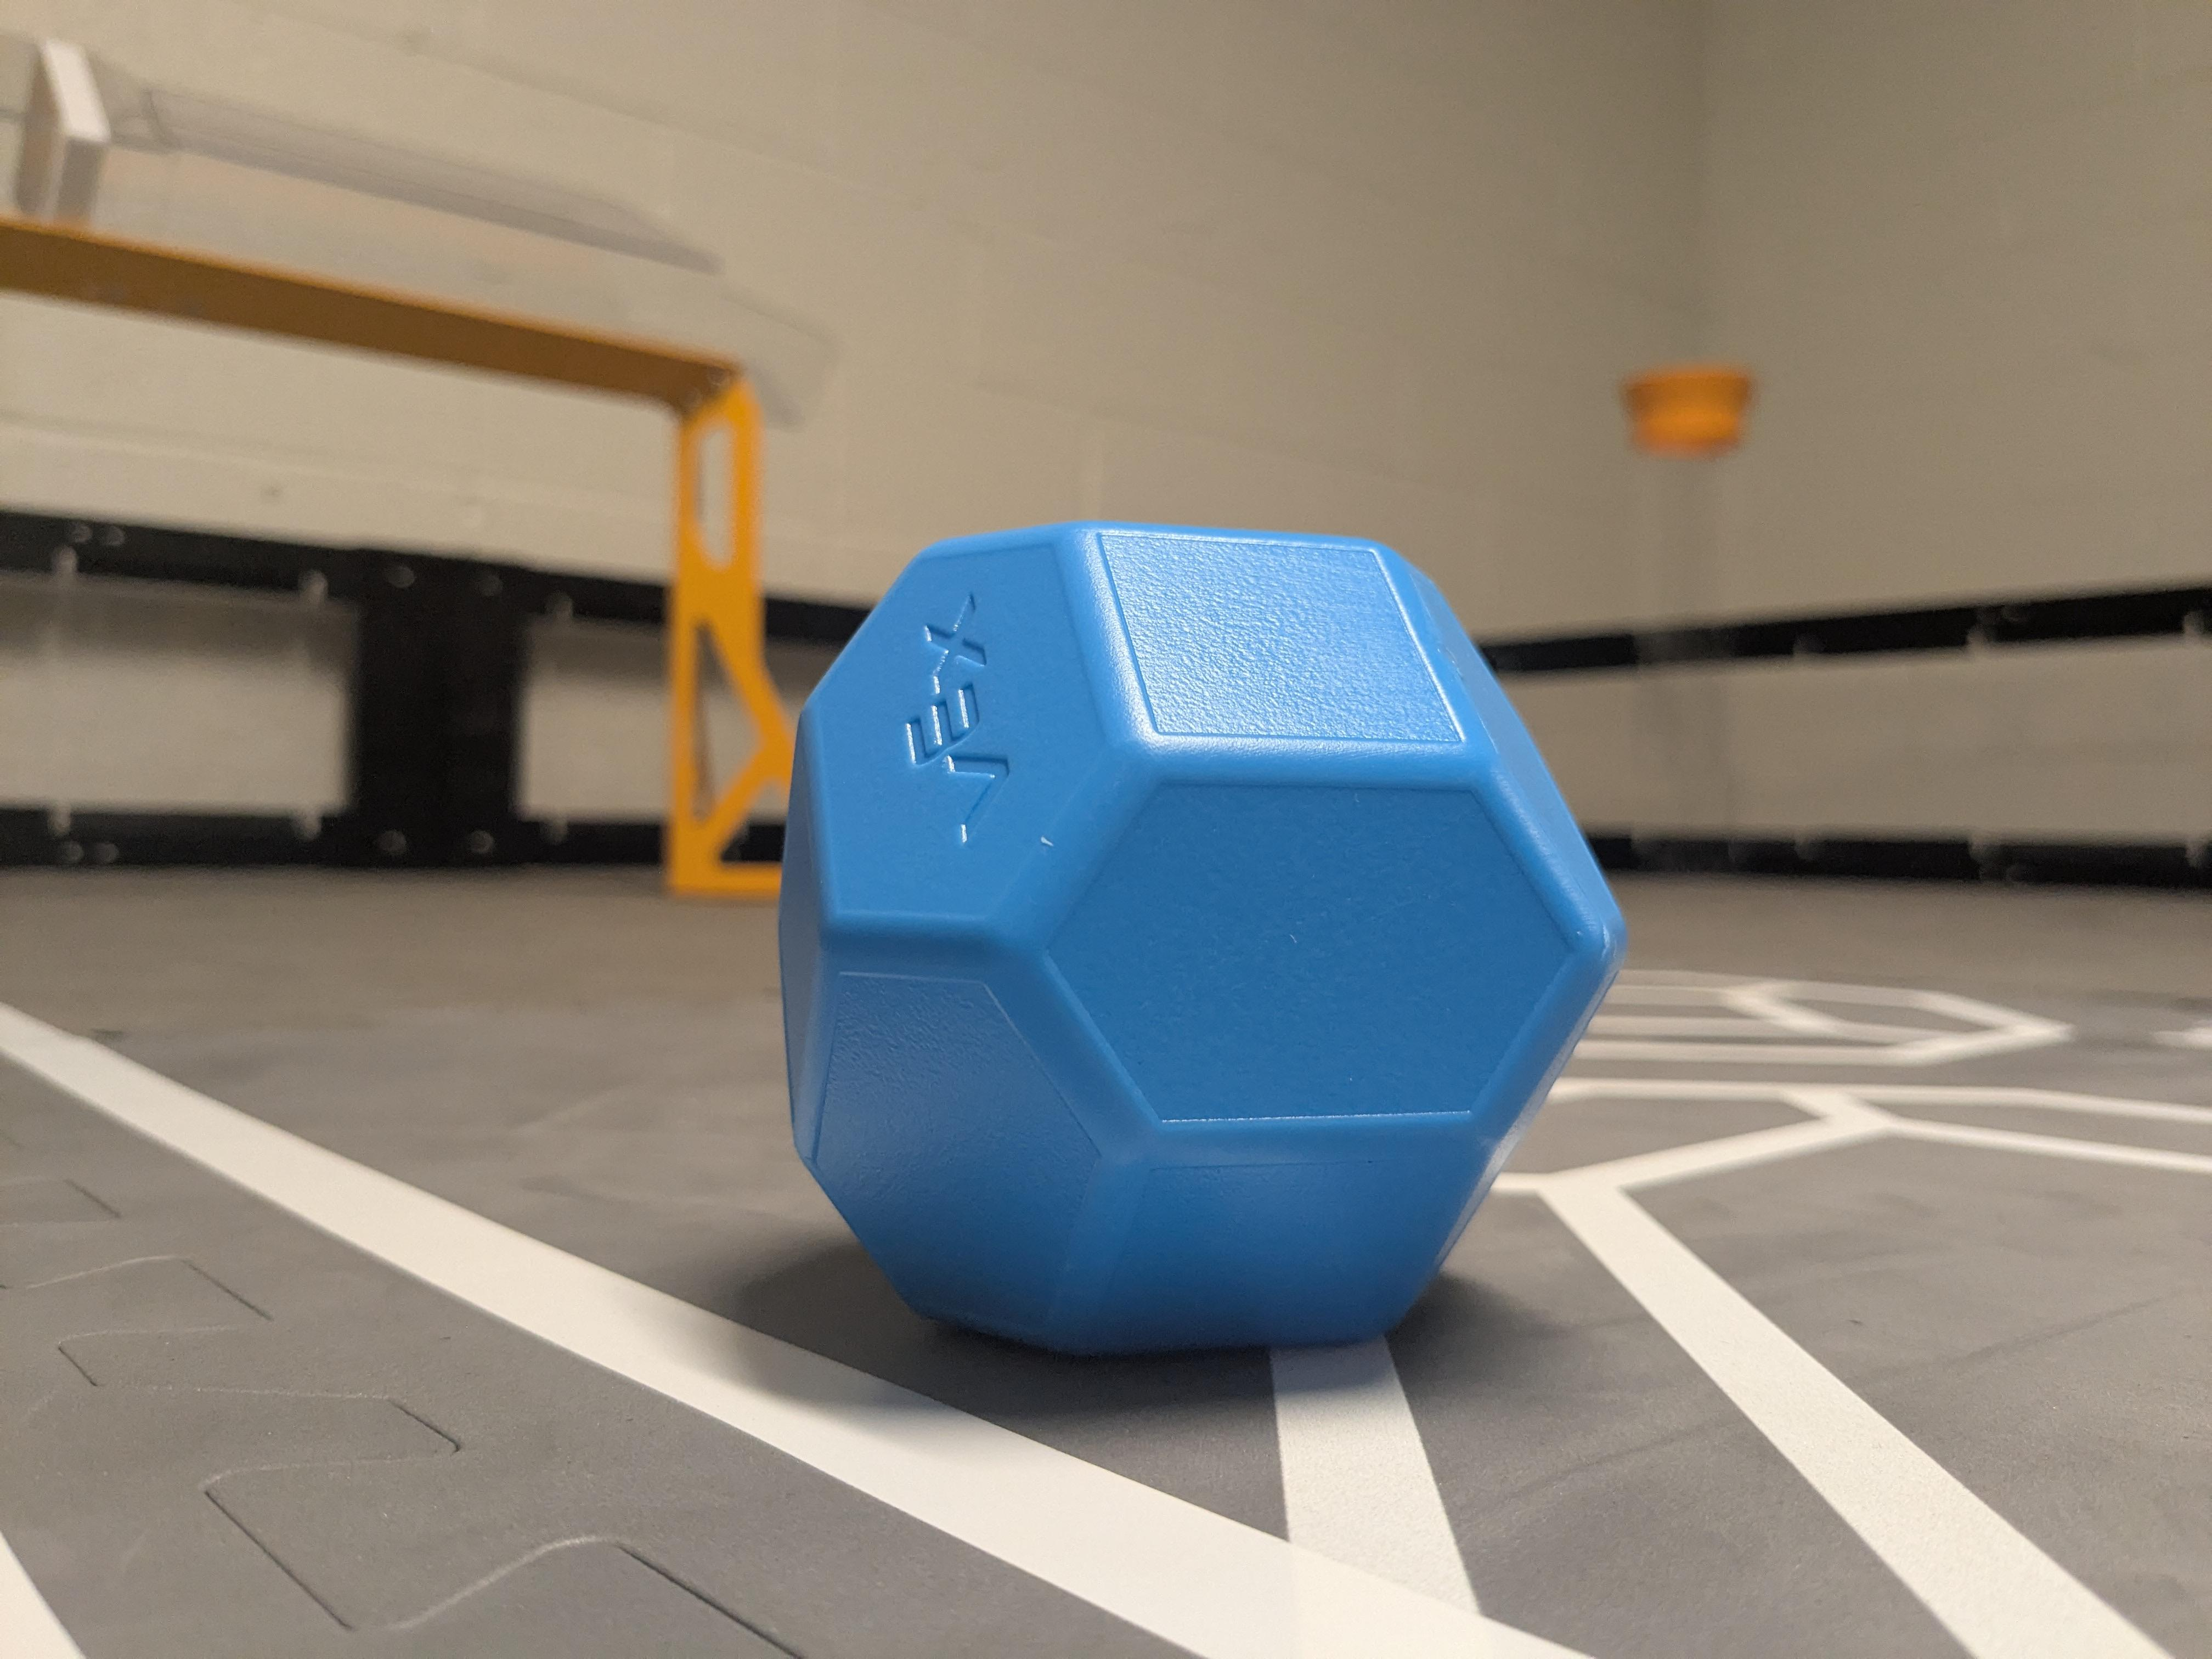Vex-Pieces-BLUE: (780, 523, 1627, 1354)
